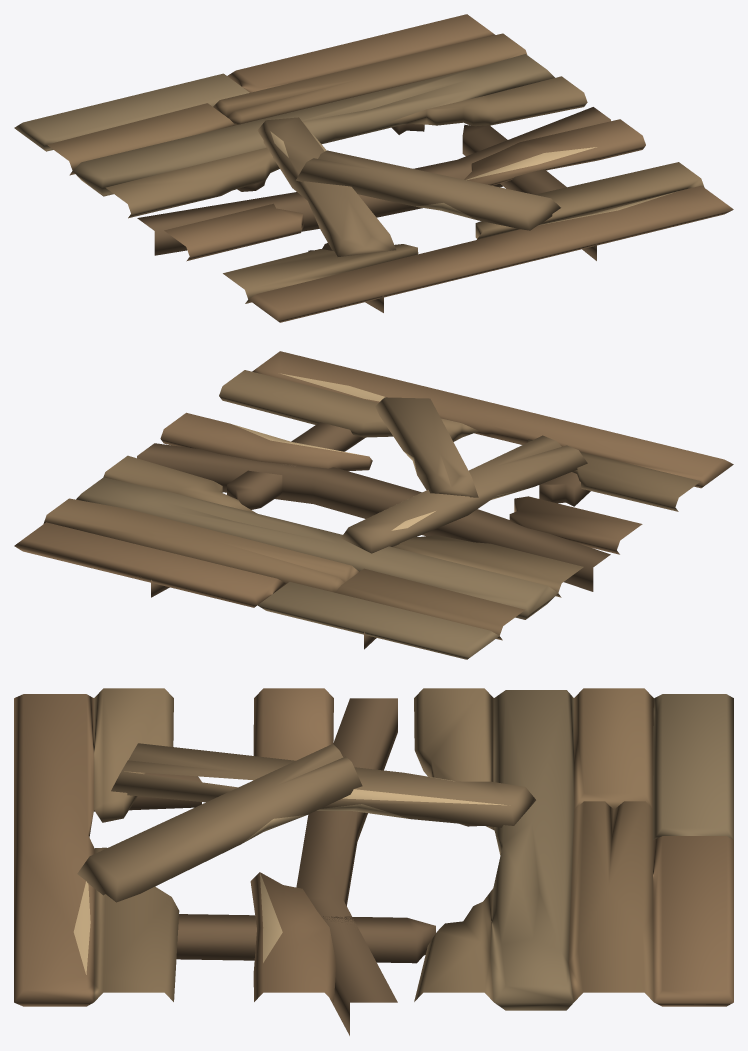
The model's file is rpgpp_av_floor_02c_3x3_2side.gltf.
The picture shows the model from 3 angles, top to bottom: view 1: azimuth 30°, elevation 25°; view 2: azimuth 150°, elevation 25°; view 3: azimuth 270°, elevation 25°; orthographic projection. The views are drawn at different scales.
Parts seen in each view (by area): view 1: rpgpp_av_floor_02c_3x3_2side; view 2: rpgpp_av_floor_02c_3x3_2side; view 3: rpgpp_av_floor_02c_3x3_2side.
Boxes of the visible parts, x1,y1,x2,y2 form: rpgpp_av_floor_02c_3x3_2side: (14, 14, 733, 322); rpgpp_av_floor_02c_3x3_2side: (14, 351, 733, 659); rpgpp_av_floor_02c_3x3_2side: (14, 688, 733, 1035).
Size of the model in its own units: 0.03 by 0.00393 by 0.03.
Materials: 1 (1 with a texture image).
